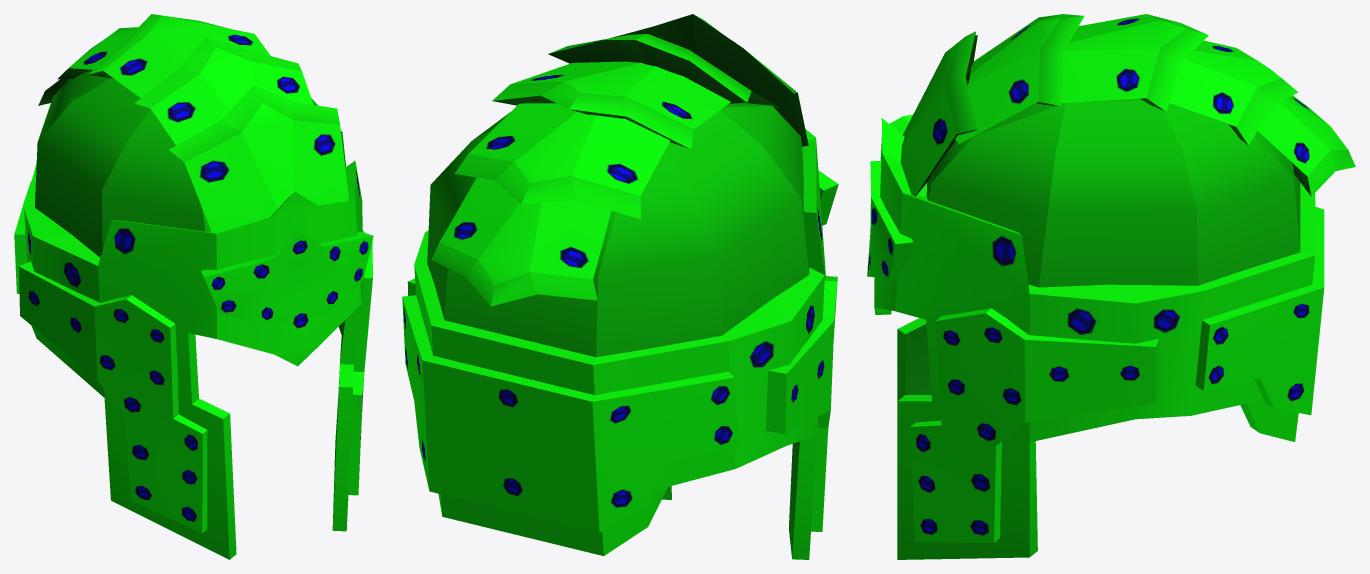
Rendered from BeaufortHelm.fbx.
3 views of the same model, side by side, from view 1: azimuth 30°, elevation 25°; view 2: azimuth 150°, elevation 25°; view 3: azimuth 270°, elevation 25° (orthographic). The views are drawn at different scales.
Parts seen in each view (by area): view 1: BeaufortHelm; view 2: BeaufortHelm; view 3: BeaufortHelm.
Part boxes in pixels (bbox=[...]): BeaufortHelm: bbox=[14, 14, 373, 559]; BeaufortHelm: bbox=[402, 14, 838, 559]; BeaufortHelm: bbox=[867, 14, 1355, 559].
Size of the model in its own units: 28.92 by 39.74 by 34.42.
